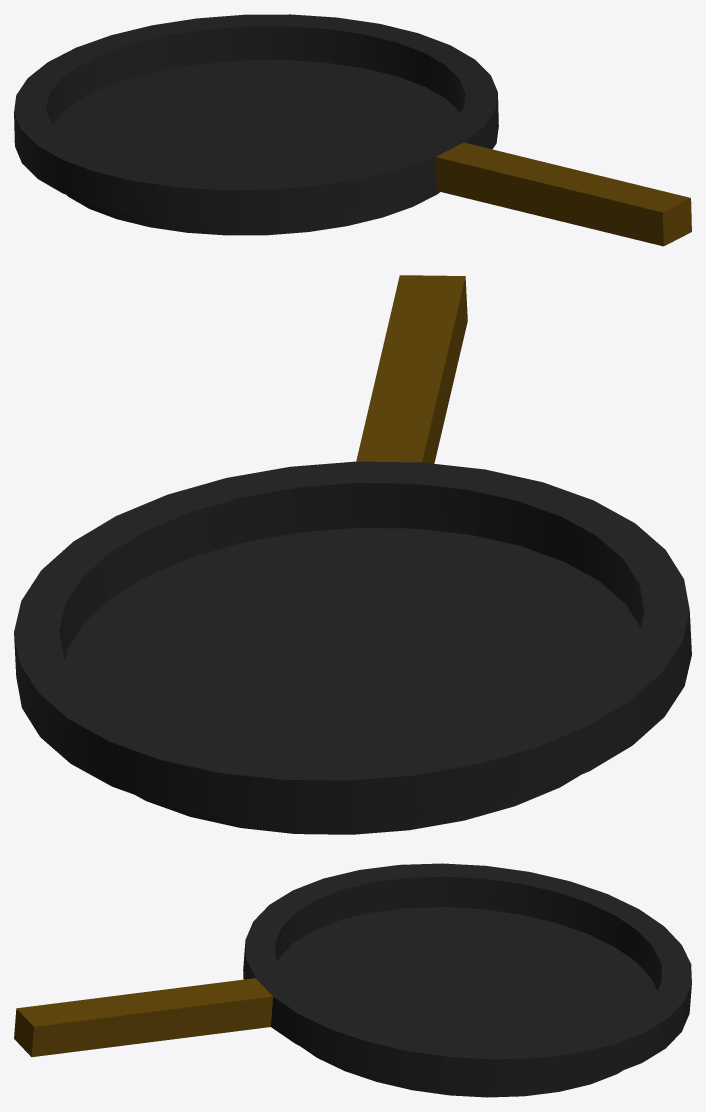
File: pan.fbx
The picture shows the model from 3 angles, top to bottom: view 1: azimuth 30°, elevation 25°; view 2: azimuth 150°, elevation 25°; view 3: azimuth 270°, elevation 25°; orthographic projection. The views are drawn at different scales.
Visible parts, largest first — view 1: 실린더; view 2: 실린더; view 3: 실린더.
Boxes of the visible parts, <box> form: 실린더: <box>14,14,691,246</box>; 실린더: <box>14,275,691,834</box>; 실린더: <box>14,863,691,1097</box>.
Size of the model in its own units: 99.76 by 22.2 by 151.
